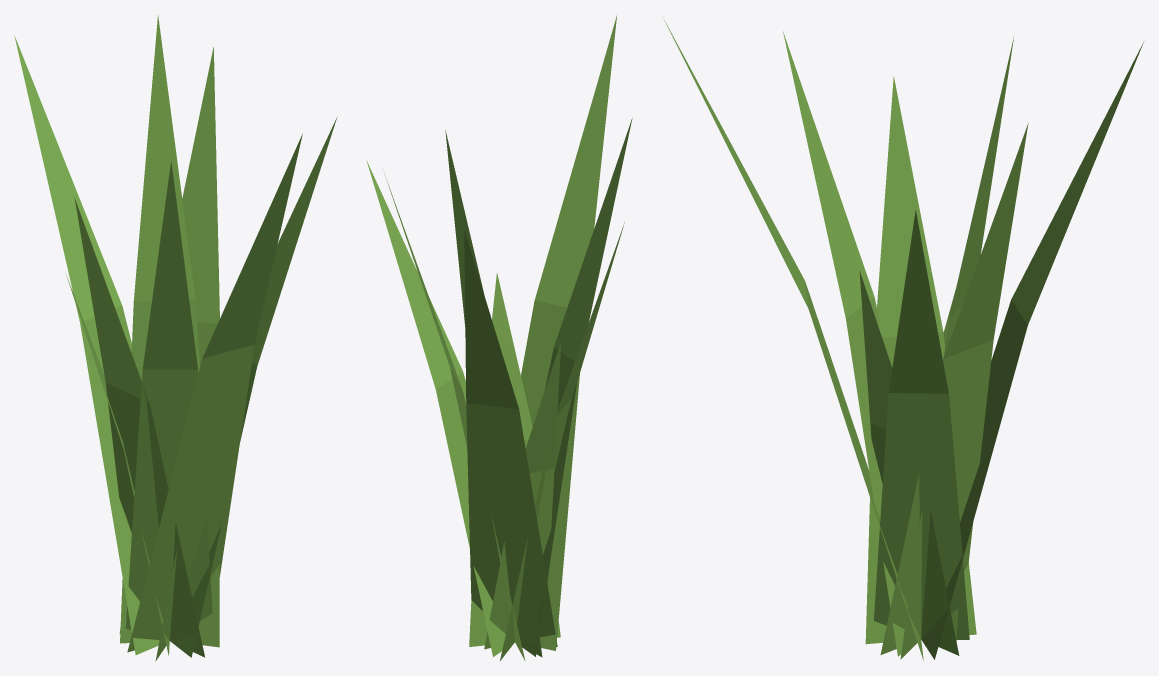
File: grass_01.glb
3 views of the same model, side by side, from view 1: azimuth 30°, elevation 25°; view 2: azimuth 150°, elevation 25°; view 3: azimuth 270°, elevation 25° (orthographic). The views are drawn at different scales.
Visible parts, largest first — view 1: 草_01; view 2: 草_01; view 3: 草_01.
Part boxes in pixels (<box>): 草_01: <box>14,15,337,661</box>; 草_01: <box>366,14,632,660</box>; 草_01: <box>664,20,1143,660</box>.
Size of the model in its own units: 0.2768 by 0.5753 by 0.3996.
